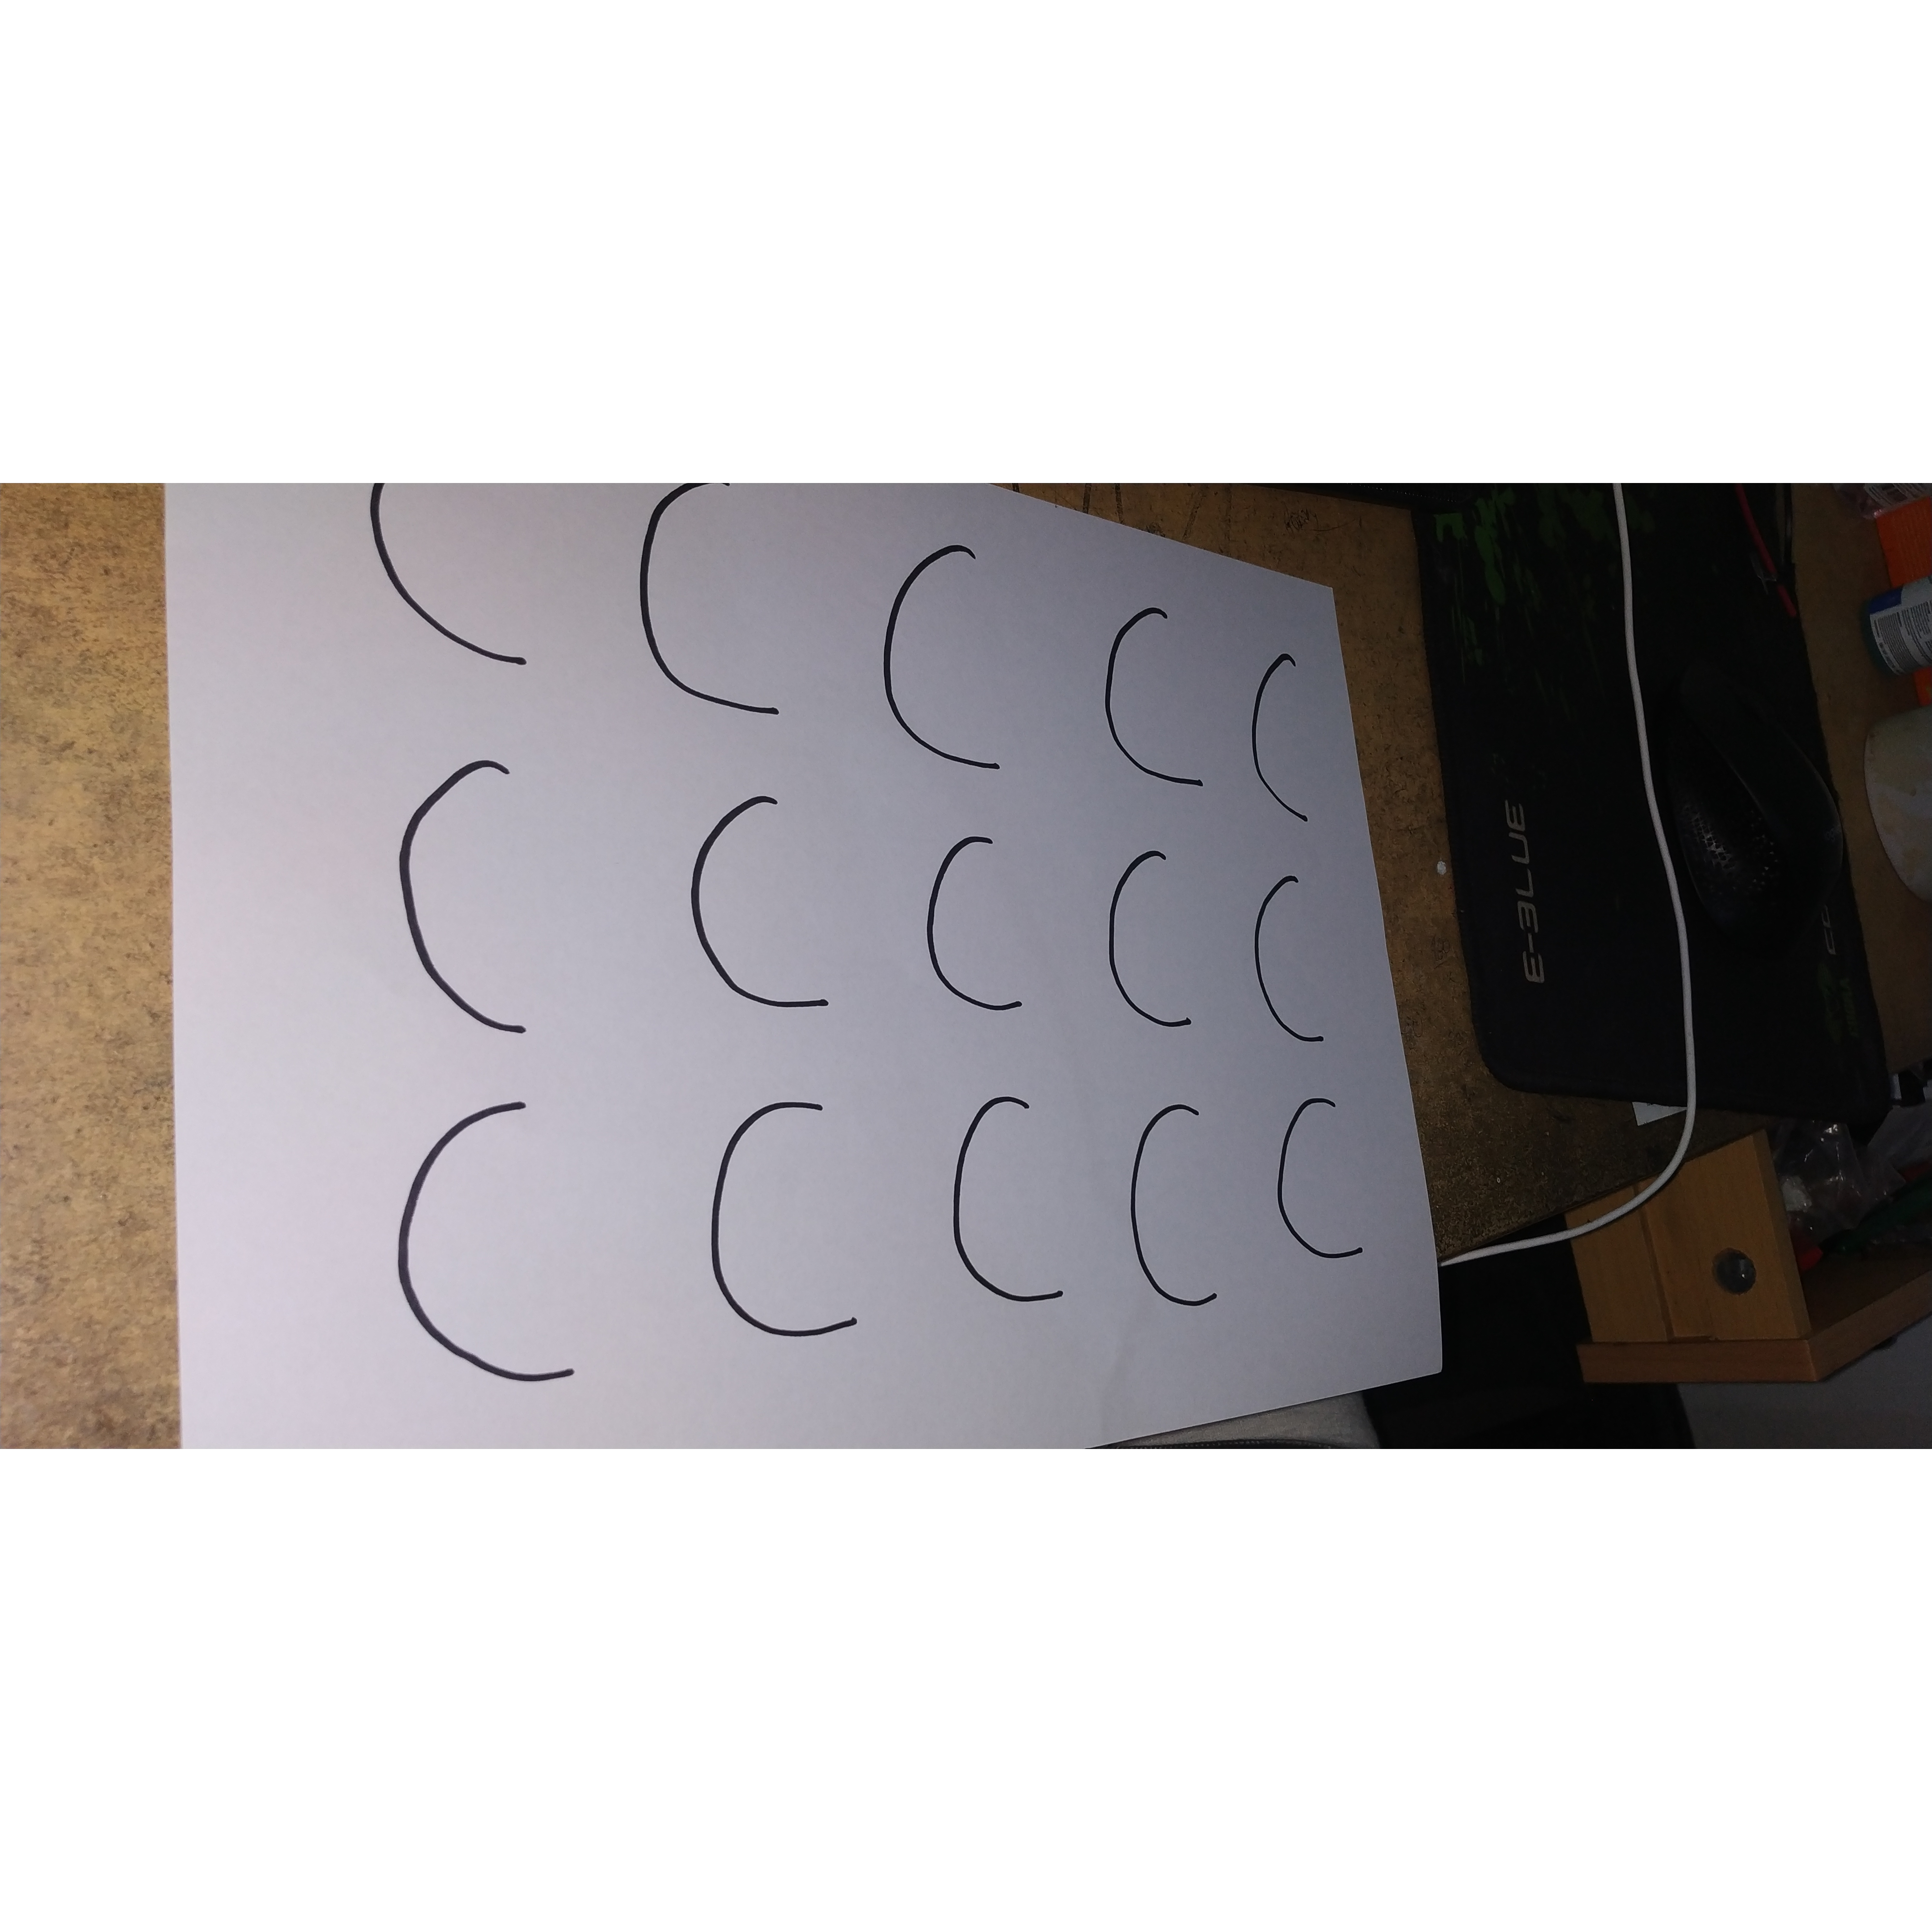openbracket: (362, 1098, 610, 1396), (355, 723, 564, 1073), (668, 771, 852, 1052), (710, 1098, 891, 1354), (868, 527, 1040, 790), (941, 1077, 1091, 1323), (1089, 842, 1236, 1061), (914, 815, 1047, 1058), (1116, 1096, 1250, 1334), (1091, 594, 1225, 817), (1242, 865, 1351, 1083), (1271, 1096, 1385, 1292), (1248, 626, 1324, 846)
